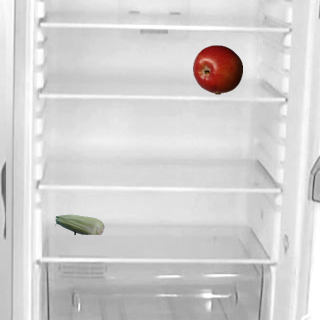Apple Braeburn: (192, 44, 242, 94)
Corn Husk: (54, 199, 104, 249)
